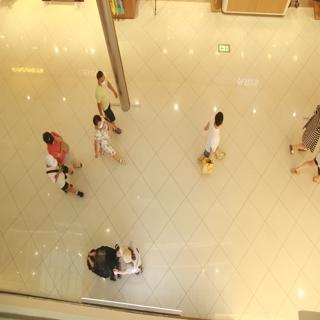person: (190, 100, 229, 179), (84, 239, 144, 285), (36, 156, 88, 205), (85, 110, 130, 166), (37, 117, 85, 169), (94, 64, 119, 113)
